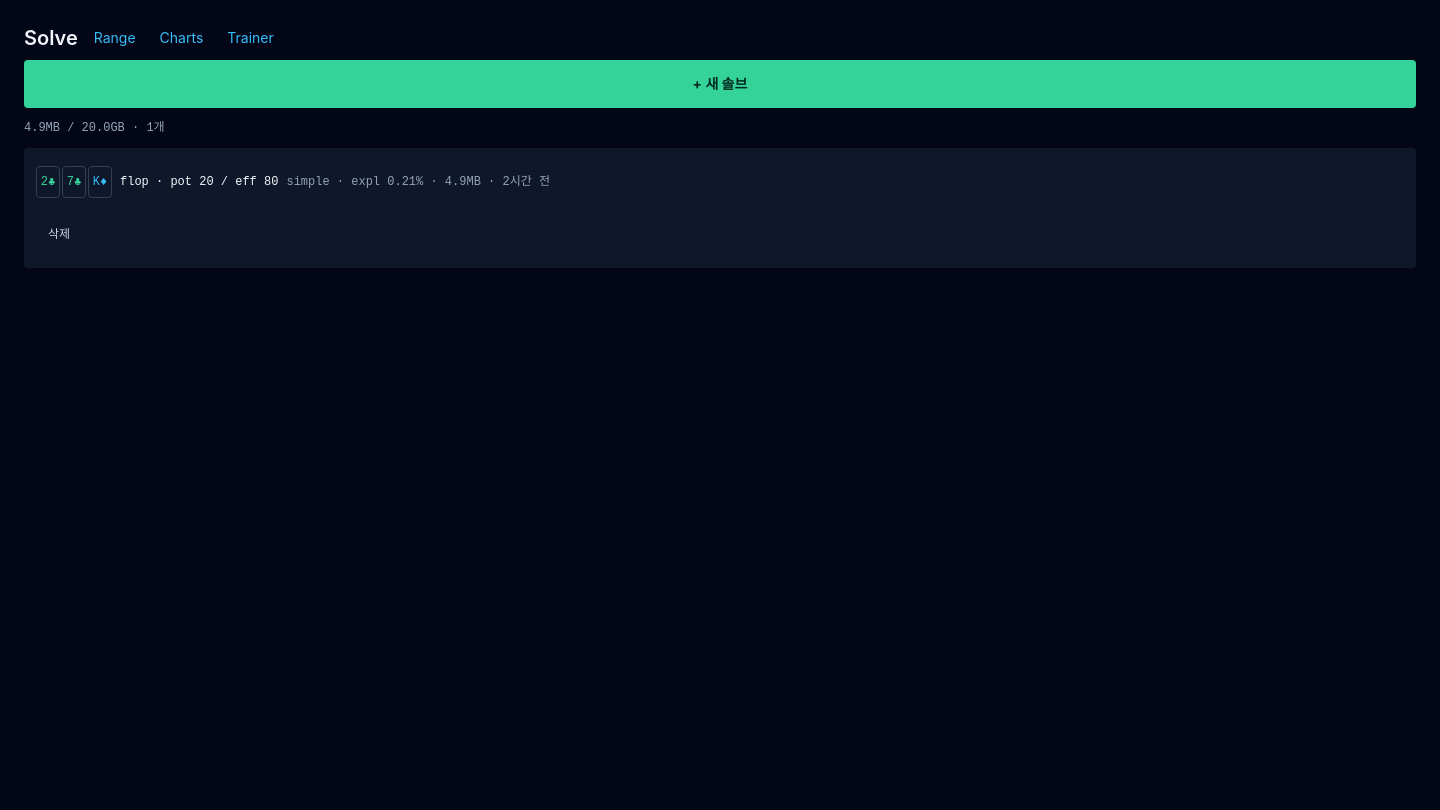
Scenario: P5 3.1 새 솔브 › P5 3.1 413 TooLarge 는 시트가 아니라 폼 아래 오류다
This screenshot has width=1440, height=810.
Click the button with test id "new-solve": (720, 84) [24, 60, 1416, 108]
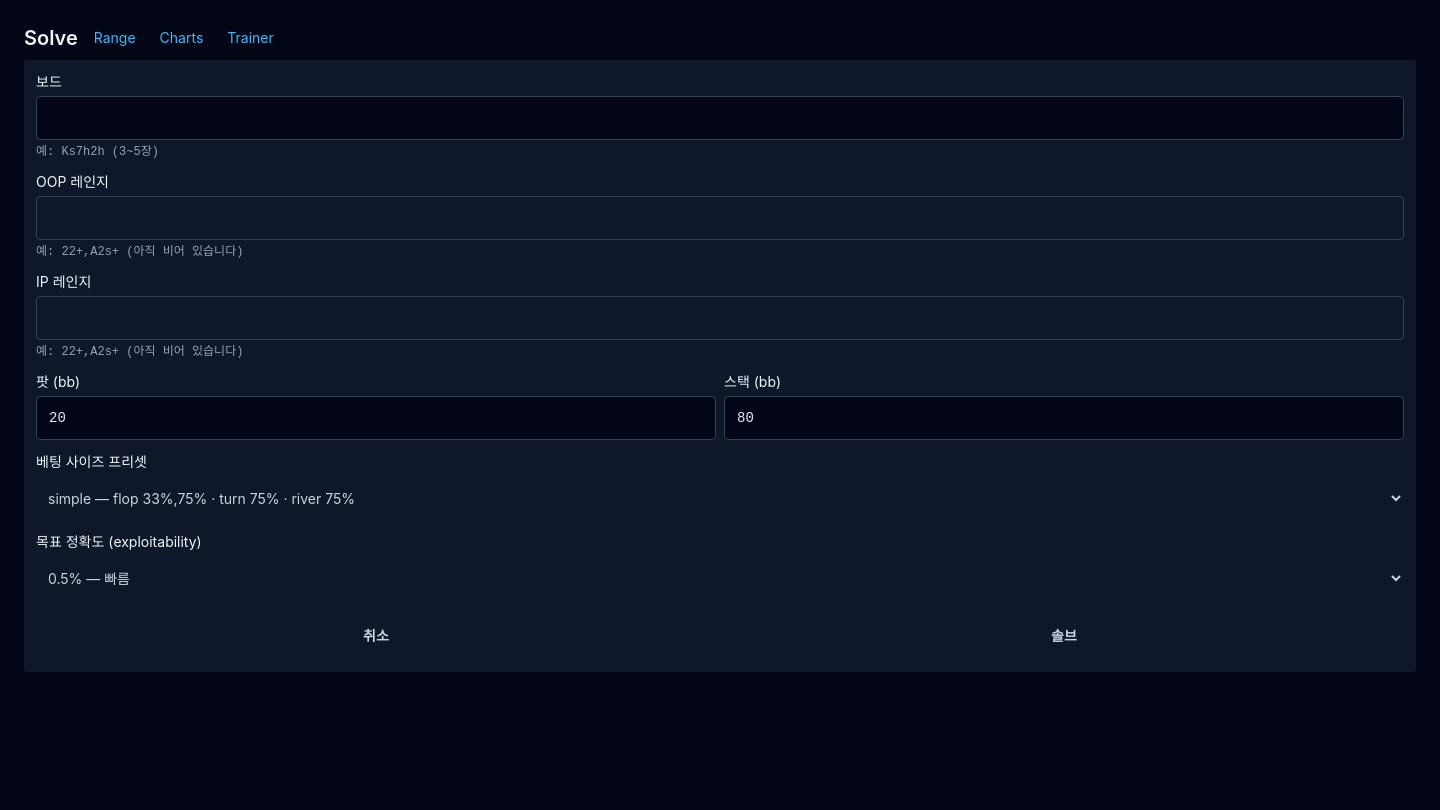
In the field with test id "form-board": (720, 118) [36, 96, 1404, 140], type "Ks7h2h"
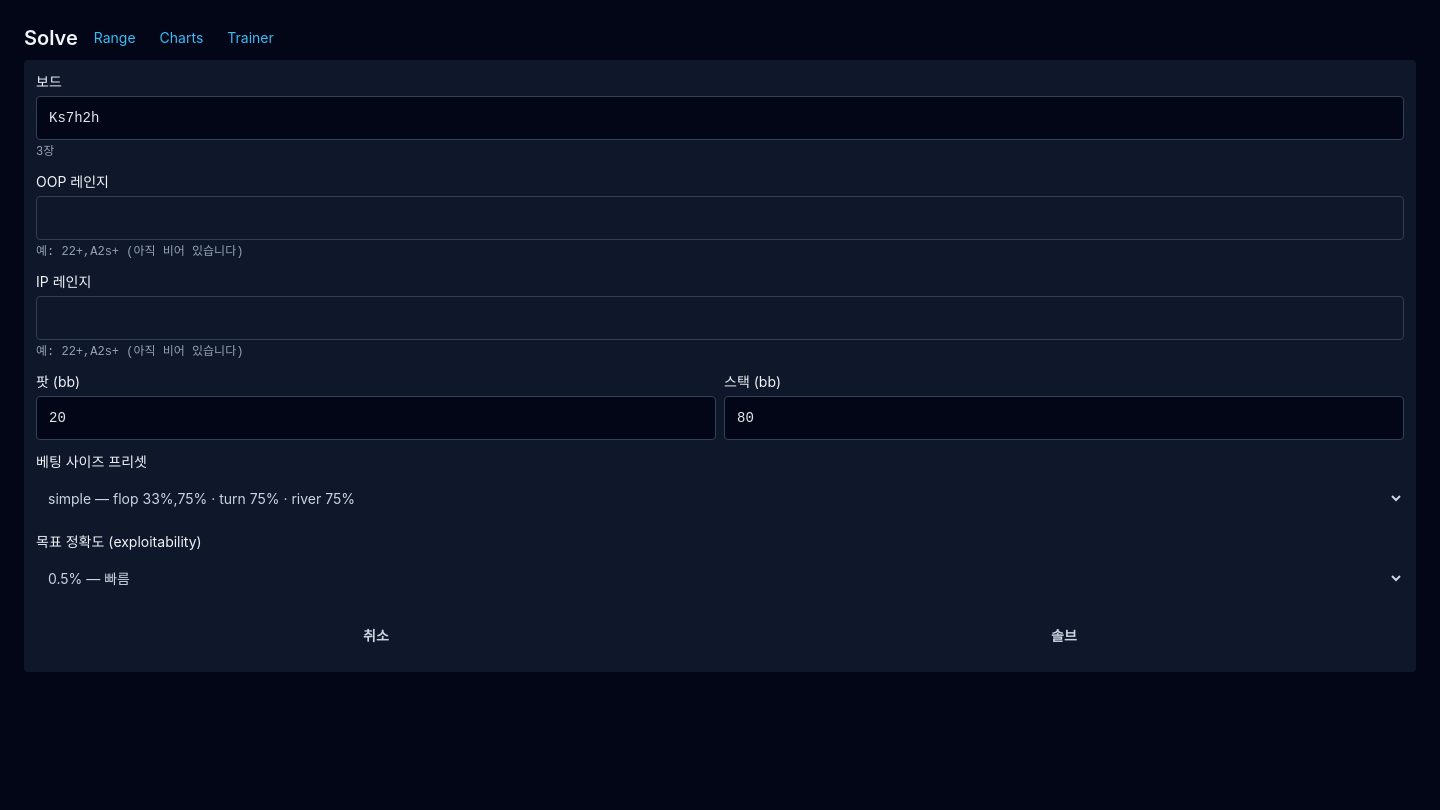
In the field named "oop range": (720, 218) [36, 196, 1404, 240], type "22+,A2s+"
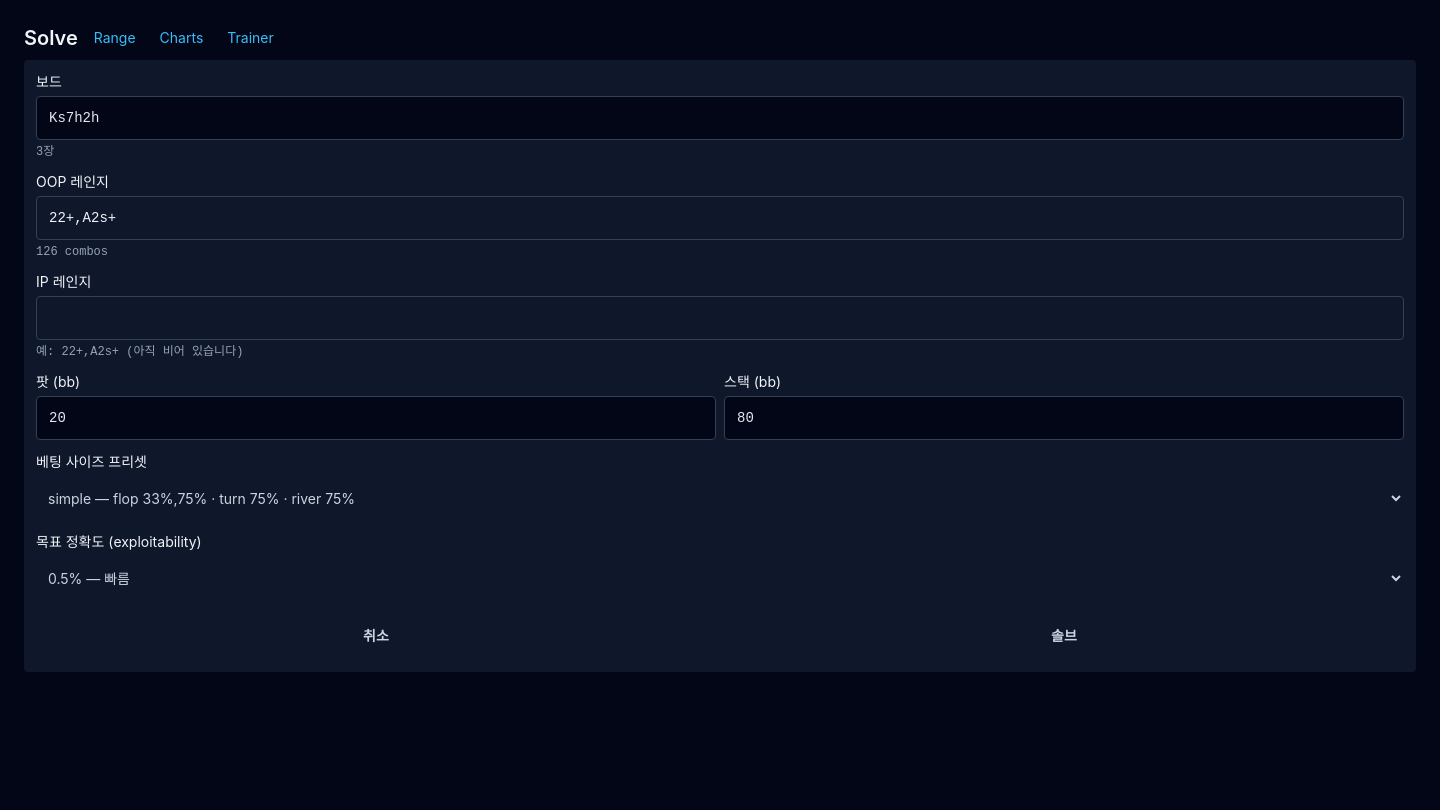
In the field named "ip range": (720, 318) [36, 296, 1404, 340], type "TT-22,AJs-A2s"
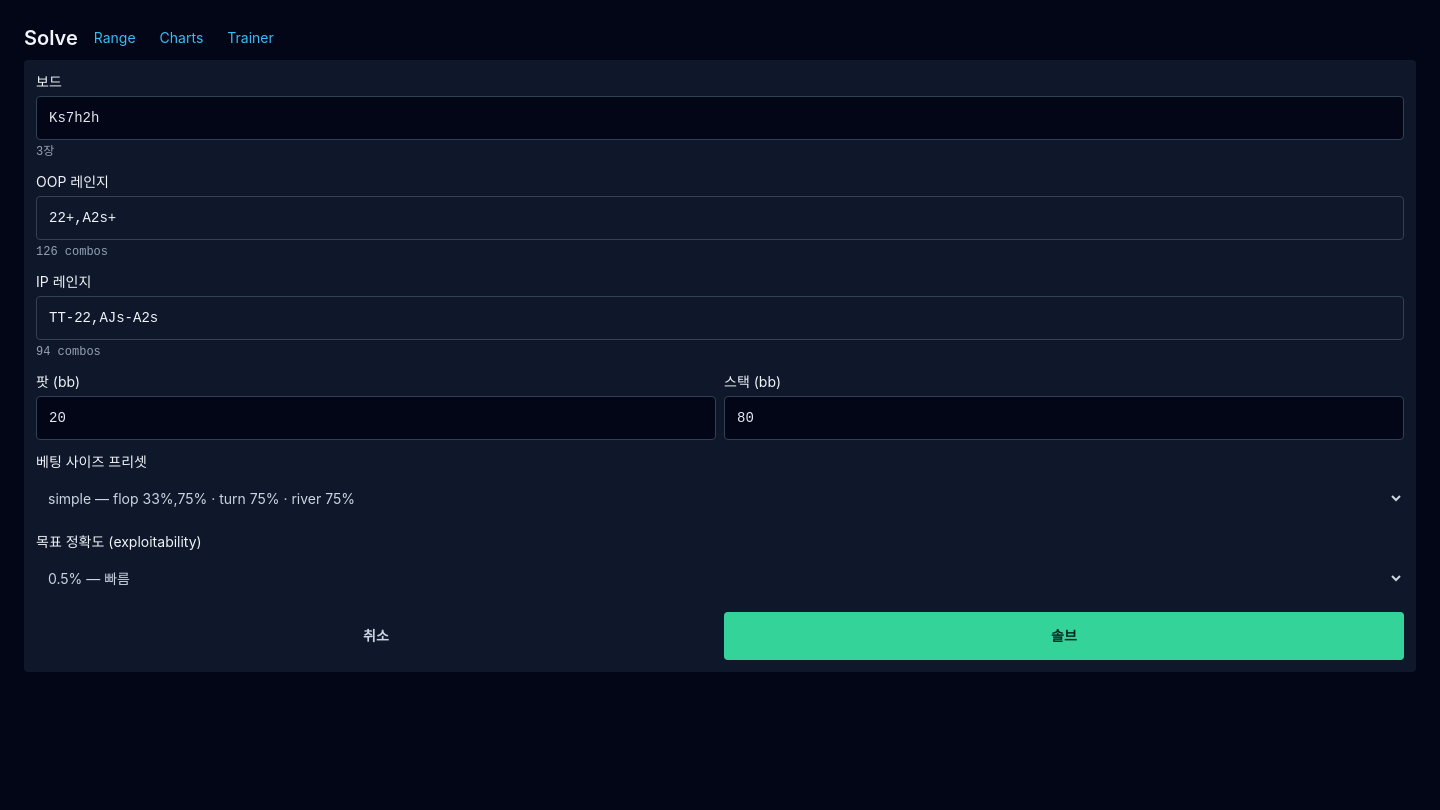
Click the button with test id "form-submit": (1064, 636) [724, 612, 1404, 660]
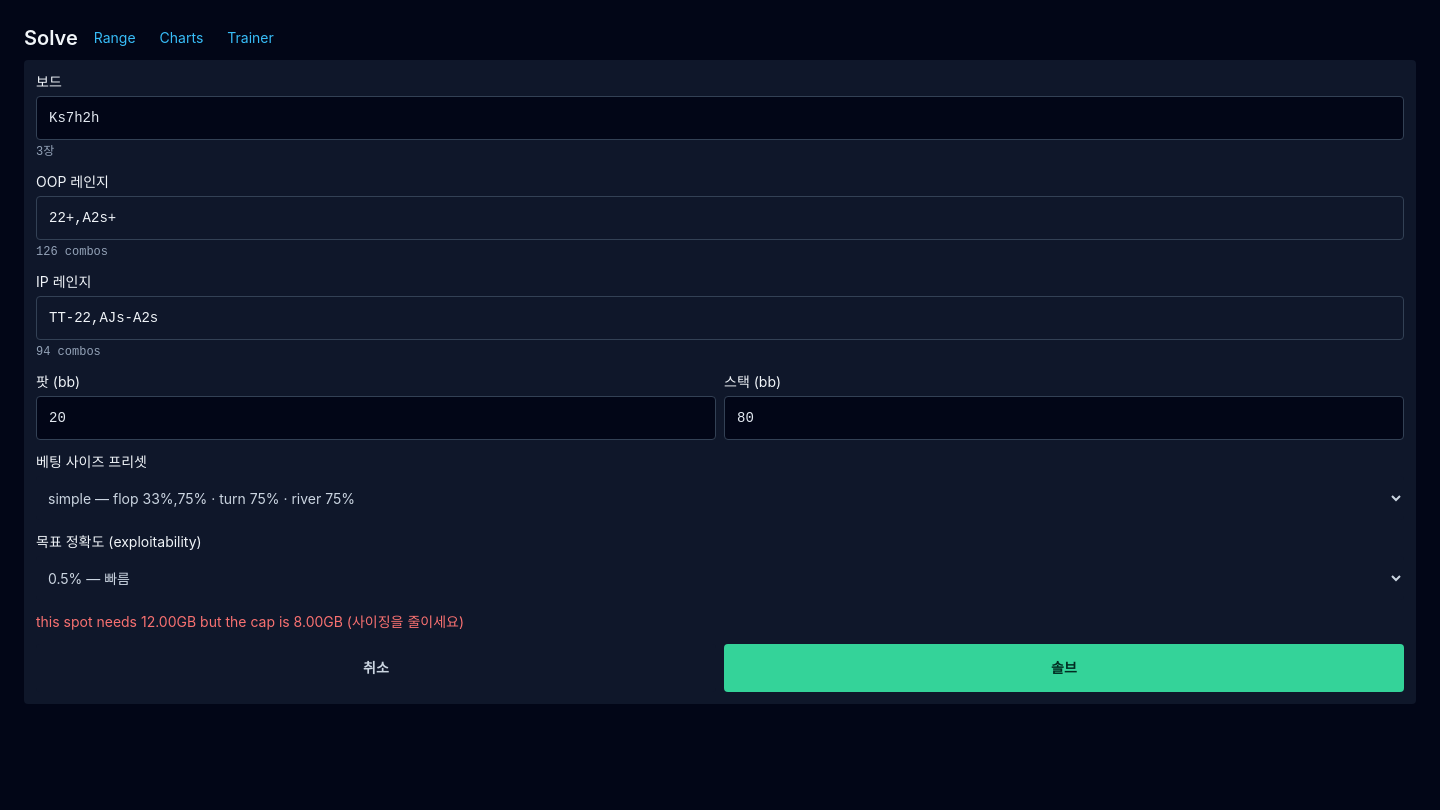
Expected: the text with test id "form-error" shows "사이징을 줄이세요", [36, 613, 464, 630]
